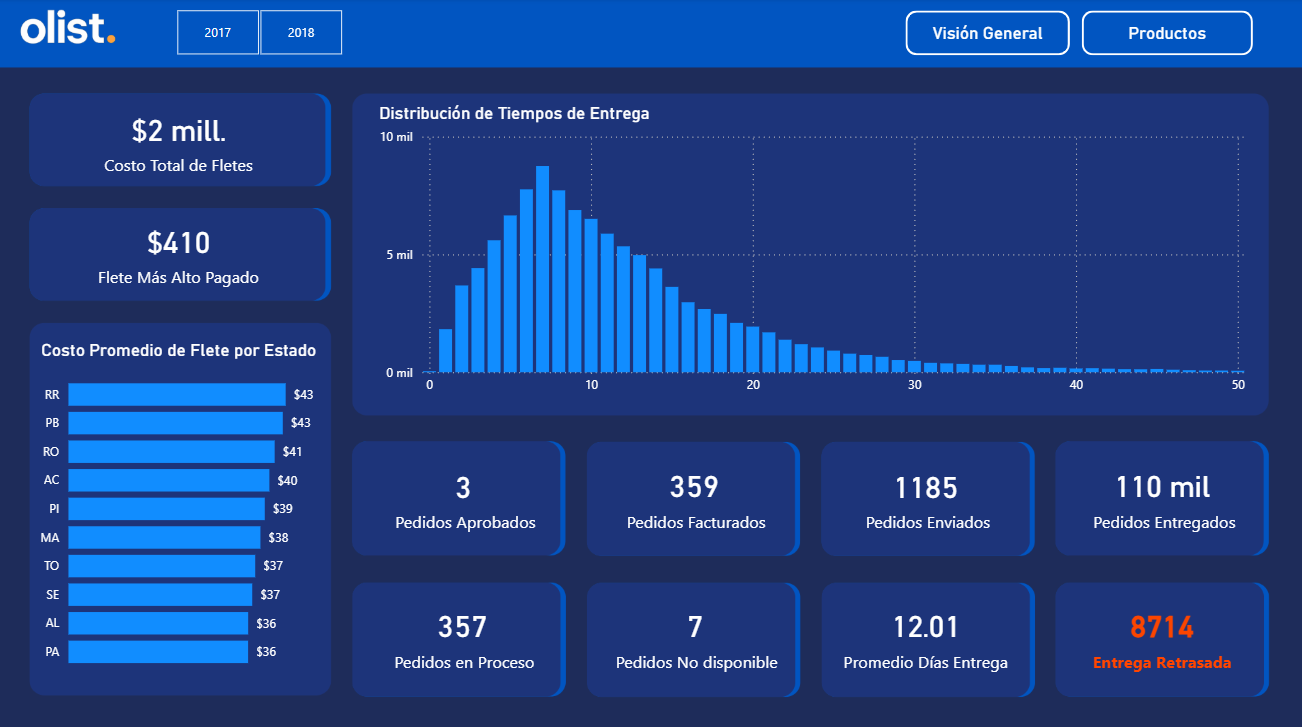

This screenshot's page, from the dashboard's own definition file:
{"tool":"powerbi","page":{"name":"Logistica","canvas":[1280,720],"ordinal":2},"visuals":[{"type":"card","fields":{"Values":["Medidas.Total Pedidos"]},"box":[370.2,434.3,172.6,110.3],"z":0},{"type":"card","fields":{"Values":["Medidas.Total Pedidos"]},"box":[1056.1,434.3,173.1,109.6],"z":1},{"type":"card","fields":{"Values":["Medidas.Total Pedidos"]},"box":[824,434.3,172.6,110.3],"z":2},{"type":"card","fields":{"Values":["Medidas.Total Pedidos"]},"box":[597.3,434.3,171.7,109.6],"z":3},{"type":"card","fields":{"Values":["Medidas.Total Pedidos"]},"box":[590.1,571.3,187.6,109.6],"z":4},{"type":"card","fields":{"Values":["Medidas.Total Pedidos"]},"box":[369.3,571.3,173.1,109.6],"z":5},{"type":"card","fields":{"Values":["Avg(Pedidos.dias_entrega)"]},"box":[816.6,571.3,187.6,109.6],"z":6},{"type":"card","fields":{"Values":["Sum(Pedidos.entrega_retrasada)"]},"box":[1048.9,571.3,187.6,109.6],"z":7},{"type":"clusteredColumnChart","title":"Distribución de Tiempos de Entrega","fields":{"Category":["Pedidos.dias_entrega"],"Y":["Medidas.Total Pedidos"]},"box":[369.3,103.1,860.1,294.5],"z":8},{"type":"slicer","fields":{"Values":["Calendario.time_id.Variación.Jerarquía de fechas.Año"]},"box":[149.3,5.3,212,57.3],"z":9},{"type":"card","fields":{"Values":["Sum(Pedidos.valor_flete)"]},"box":[34.7,93.1,286.1,91.7],"z":10},{"type":"card","fields":{"Values":["Max(Pedidos.valor_flete)"]},"box":[34.7,204.2,286.1,91.7],"z":11},{"type":"clusteredBarChart","title":"Costo Promedio de Flete por Estado","fields":{"Category":["Clientes.estado_cliente"],"Y":["Avg(Pedidos.valor_flete)"]},"box":[34.7,334.7,286.1,334.7],"z":12},{"type":"actionButton","box":[890.7,12,161.3,44],"z":13},{"type":"actionButton","box":[1064,12,168,44],"z":14}]}

Visuals, with their boxes in screenshot pixels (x1, y1, x2, y2), scaled from the page's 1280x720 canvas onto the 1302x727 screenshot:
card - Medidas.Total Pedidos: bbox=[377, 439, 552, 550]
card - Medidas.Total Pedidos: bbox=[1074, 439, 1250, 549]
card - Medidas.Total Pedidos: bbox=[838, 439, 1014, 550]
card - Medidas.Total Pedidos: bbox=[608, 439, 782, 549]
card - Medidas.Total Pedidos: bbox=[600, 577, 791, 688]
card - Medidas.Total Pedidos: bbox=[376, 577, 552, 688]
card - Avg(Pedidos.dias_entrega): bbox=[831, 577, 1021, 688]
card - Sum(Pedidos.entrega_retrasada): bbox=[1067, 577, 1258, 688]
"Distribución de Tiempos de Entrega" clusteredColumnChart: bbox=[376, 104, 1251, 401]
slicer - Calendario.time_id.Variación.Jerarquía de fechas.Año: bbox=[152, 5, 368, 63]
card - Sum(Pedidos.valor_flete): bbox=[35, 94, 326, 187]
card - Max(Pedidos.valor_flete): bbox=[35, 206, 326, 299]
"Costo Promedio de Flete por Estado" clusteredBarChart: bbox=[35, 338, 326, 676]
actionButton: bbox=[906, 12, 1070, 57]
actionButton: bbox=[1082, 12, 1253, 57]
